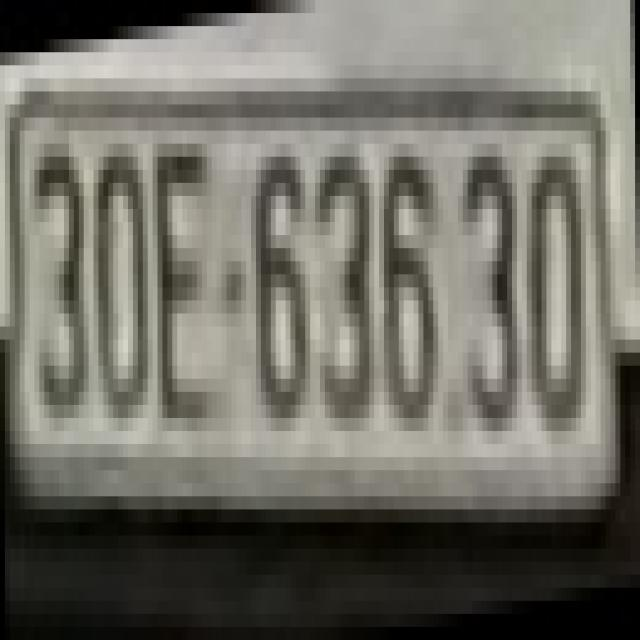0: (527, 144, 586, 431), (94, 131, 148, 418)
3: (458, 144, 522, 431), (315, 144, 374, 418), (30, 144, 89, 418)
6: (379, 144, 438, 431), (251, 144, 310, 418)
E: (152, 144, 216, 418)
